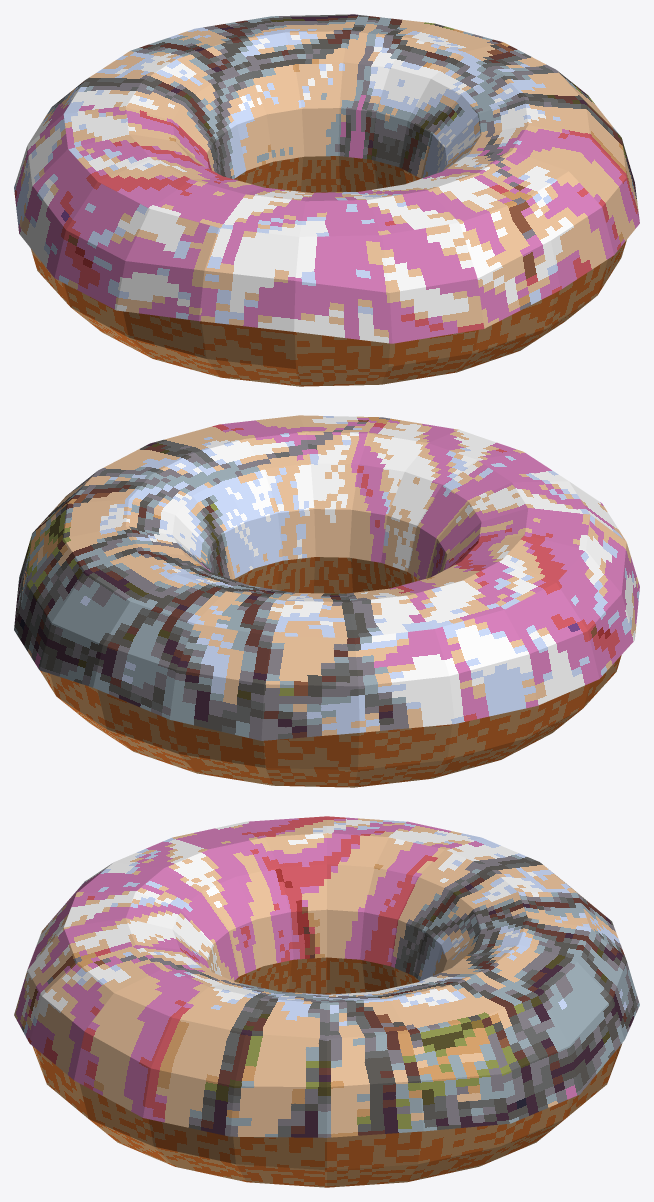
The model's file is donut_6.glb.
3 views of the same model, one above another, from view 1: azimuth 30°, elevation 25°; view 2: azimuth 150°, elevation 25°; view 3: azimuth 270°, elevation 25° (orthographic).
Parts seen in each view (by area): view 1: doughnut_ps_baked; view 2: doughnut_ps_baked; view 3: doughnut_ps_baked.
Boxes of the visible parts, bbox=[...] form: doughnut_ps_baked: bbox=[14, 14, 639, 386]; doughnut_ps_baked: bbox=[14, 415, 639, 787]; doughnut_ps_baked: bbox=[14, 816, 639, 1187].
Bounding box in the file's own units: 1.28 × 0.3887 × 1.28.
1 material, 1 textured.
